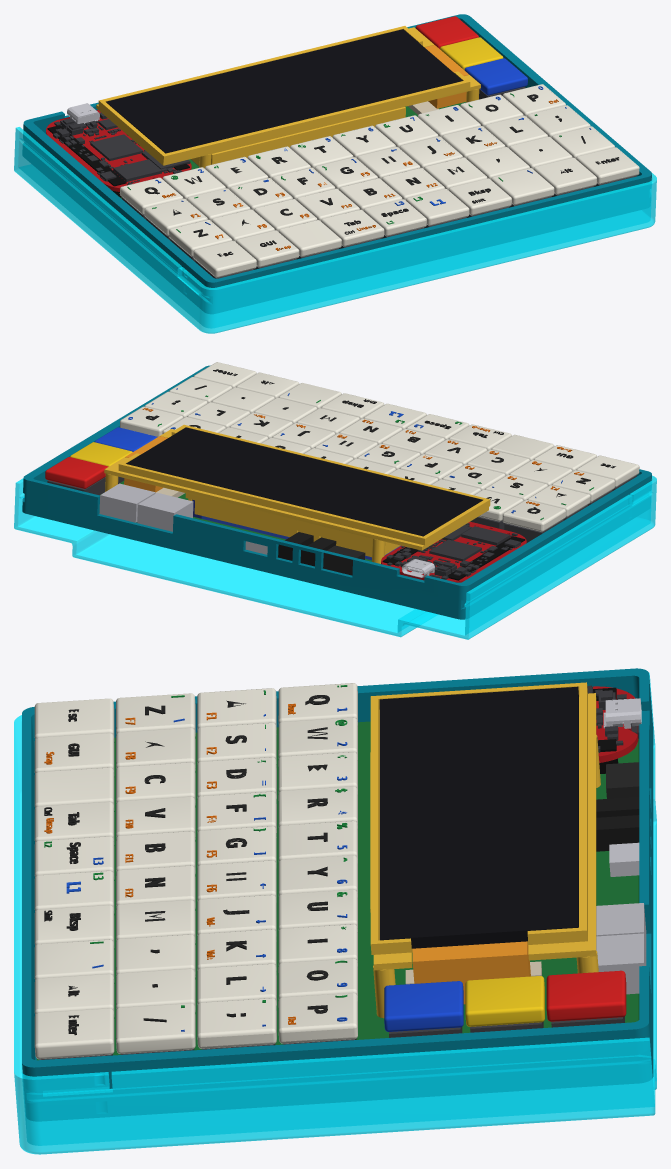
File: cradle_bondi.glb
The picture shows the model from 3 angles, top to bottom: view 1: azimuth 30°, elevation 25°; view 2: azimuth 150°, elevation 25°; view 3: azimuth 270°, elevation 25°; orthographic projection. The views are drawn at different scales.
Visible parts, largest first — view 1: Internals, Lid, Tray; view 2: Internals, Lid, Tray; view 3: Internals, Lid, Tray.
Part boxes in pixels (x1=…): Internals: x1=46, y1=16, x2=639, y2=278; Lid: x1=14, y1=127, x2=656, y2=333; Tray: x1=23, y1=14, x2=651, y2=313; Internals: x1=45, y1=362, x2=639, y2=582; Lid: x1=14, y1=475, x2=656, y2=639; Tray: x1=22, y1=365, x2=651, y2=619; Internals: x1=34, y1=682, x2=646, y2=1060; Lid: x1=14, y1=672, x2=656, y2=1154; Tray: x1=22, y1=668, x2=653, y2=1120.
Size of the model in its own units: 0.1818 by 0.0365 by 0.1342.
